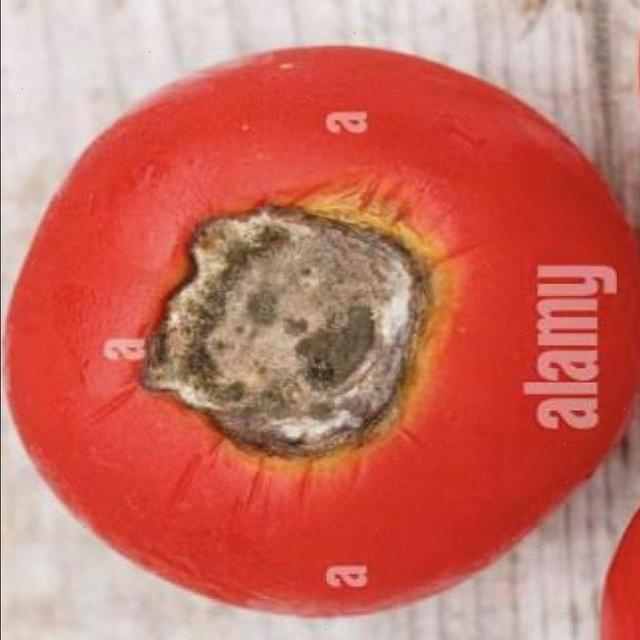Blossom End Rot Fruit: (87, 130, 288, 314)
